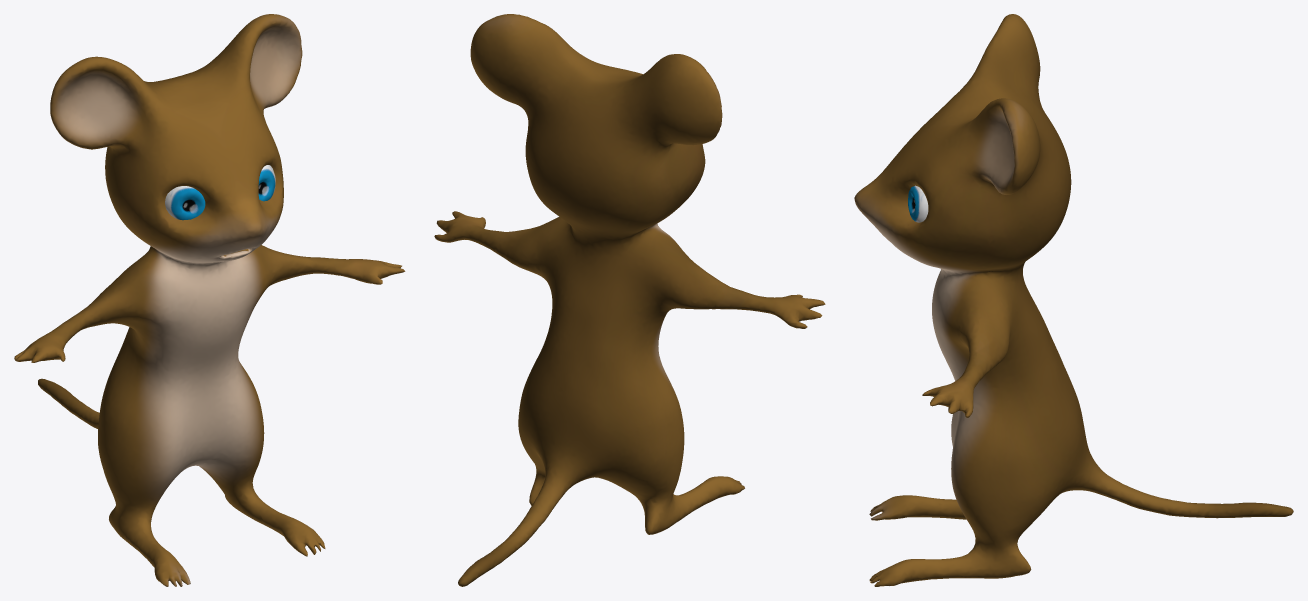
File: mouse_by_dommk.fbx
The picture shows the model from 3 angles, left to right: view 1: azimuth 30°, elevation 25°; view 2: azimuth 150°, elevation 25°; view 3: azimuth 270°, elevation 25°; orthographic projection.
Parts seen in each view (by area): view 1: mouse_by_dommk, Group58359; view 2: mouse_by_dommk; view 3: mouse_by_dommk, Group58359.
Part boxes in pixels (bbox=[...]): mouse_by_dommk: bbox=[14, 14, 405, 586]; Group58359: bbox=[165, 165, 275, 220]; mouse_by_dommk: bbox=[434, 14, 825, 586]; mouse_by_dommk: bbox=[854, 14, 1293, 586]; Group58359: bbox=[908, 185, 928, 222].
Bounding box in the file's own units: 2.38 × 2.85 × 2.31.
